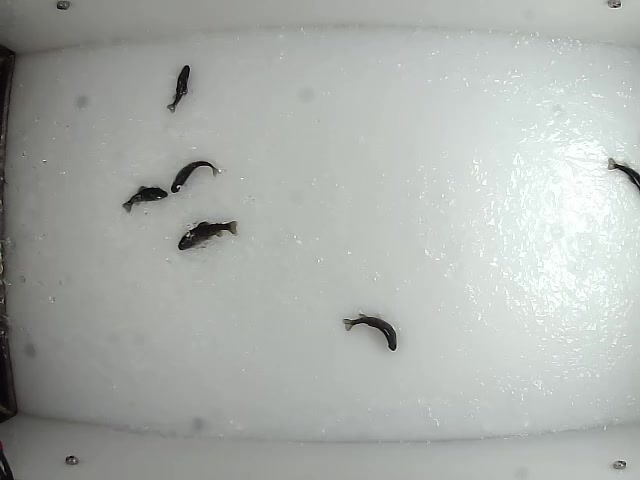fish: (342, 310, 399, 354), (174, 217, 239, 254), (167, 160, 222, 196), (119, 185, 168, 214), (164, 64, 191, 114)
